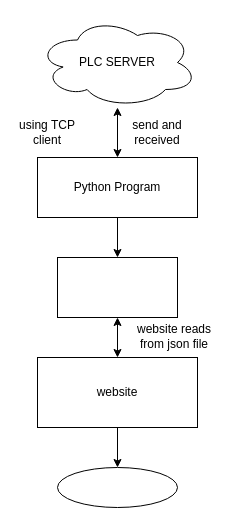
The diagram is 241 pixels wide and 525 high, and some of its shapes have lost their labels. Here are the shapes that lost their labels. From the top down, the centre of each, then its label:
At (117,287): "create json file".
At (117,487): "end".
